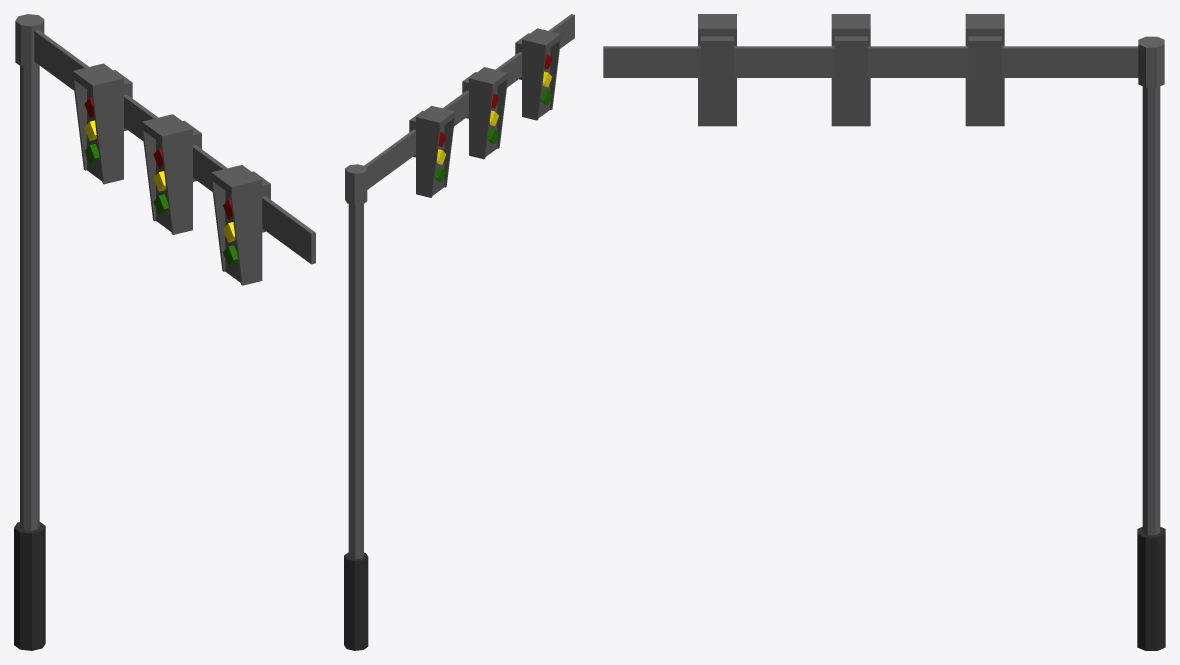
File: Traffic Light 5.fbx
3 views of the same model, side by side, from view 1: azimuth 30°, elevation 25°; view 2: azimuth 150°, elevation 25°; view 3: azimuth 270°, elevation 25° (orthographic). The views are drawn at different scales.
Visible parts, largest first — view 1: Traffic Light 5; view 2: Traffic Light 5; view 3: Traffic Light 5.
Boxes of the visible parts, <box> form: Traffic Light 5: <box>14,14,315,650</box>; Traffic Light 5: <box>344,14,574,650</box>; Traffic Light 5: <box>603,14,1165,650</box>.
Size of the model in its own units: 0.3261 by 3.58 by 4.32.
